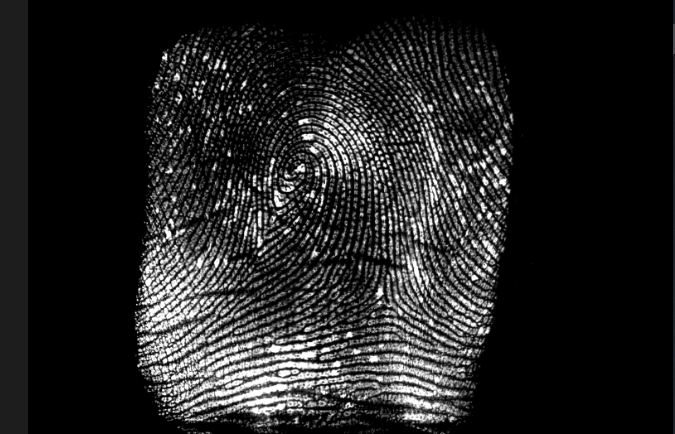deltas: (357, 269, 409, 323)
nucleo: (274, 149, 319, 191)
